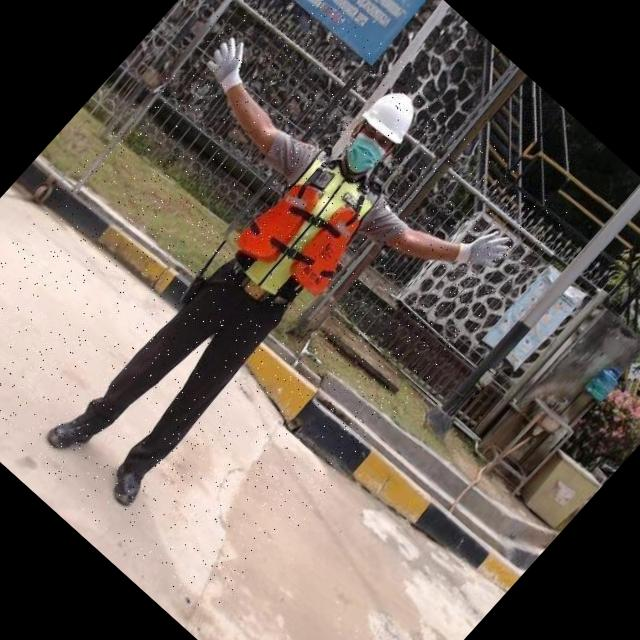hard_hat: (357, 80, 429, 152)
safety_vest: (215, 138, 400, 328)
vehicle: (0, 0, 576, 624)
work_boots: (38, 392, 110, 468), (94, 442, 166, 516)
